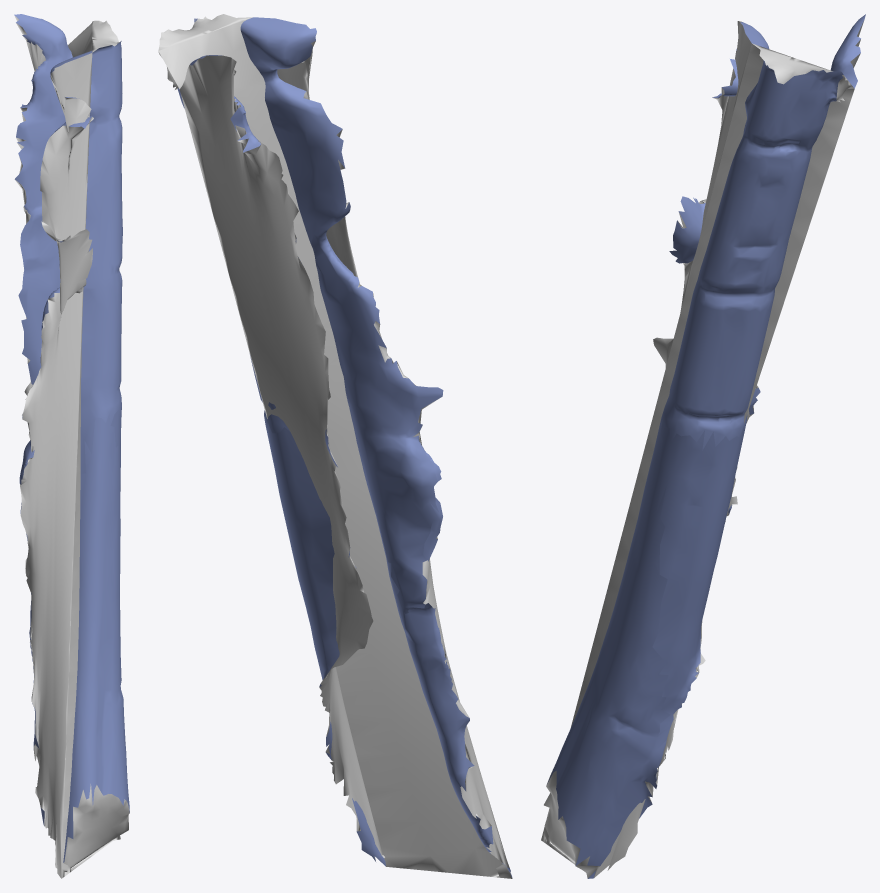
The model's file is Hi3D_Segmented Pastel Female Android 3D Model Asset_part35_20261014_192059.glb.
3 renders of one model, left to right at view 1: azimuth 30°, elevation 25°; view 2: azimuth 150°, elevation 25°; view 3: azimuth 270°, elevation 25°, orthographic. The views are drawn at different scales.
Visible parts, largest first — view 1: Hi3D_Segmented Pastel Female Android 3D Model Asset_part35_2; view 2: Hi3D_Segmented Pastel Female Android 3D Model Asset_part35_2; view 3: Hi3D_Segmented Pastel Female Android 3D Model Asset_part35_2.
Part boxes in pixels (x1,y1,x2,y2): Hi3D_Segmented Pastel Female Android 3D Model Asset_part35_2: [14, 14, 129, 878]; Hi3D_Segmented Pastel Female Android 3D Model Asset_part35_2: [158, 14, 512, 878]; Hi3D_Segmented Pastel Female Android 3D Model Asset_part35_2: [541, 14, 865, 878].
Size of the model in its own units: 0.0219 by 0.0934 by 0.0313.
